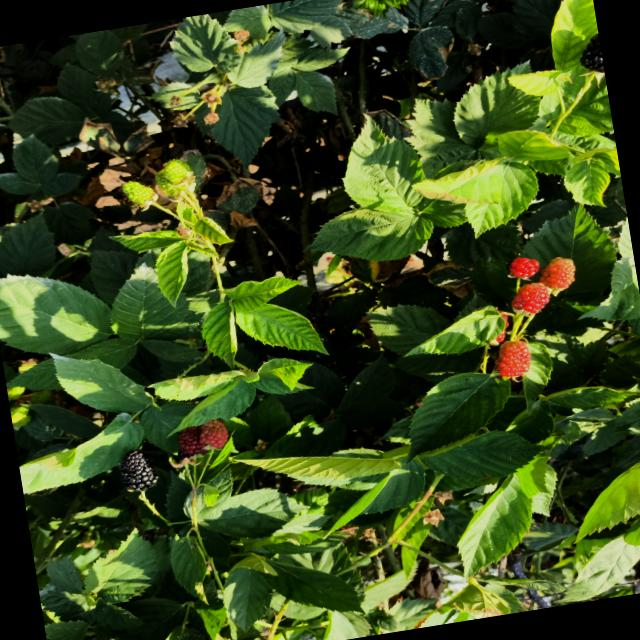maduro: (121, 450, 158, 491), (580, 33, 605, 72)
marron: (179, 426, 201, 457)
naranja: (496, 340, 531, 377), (512, 283, 550, 314), (540, 257, 575, 290), (199, 419, 229, 449), (509, 257, 540, 278)
verde: (156, 159, 194, 196), (123, 181, 158, 210), (156, 172, 183, 198)
